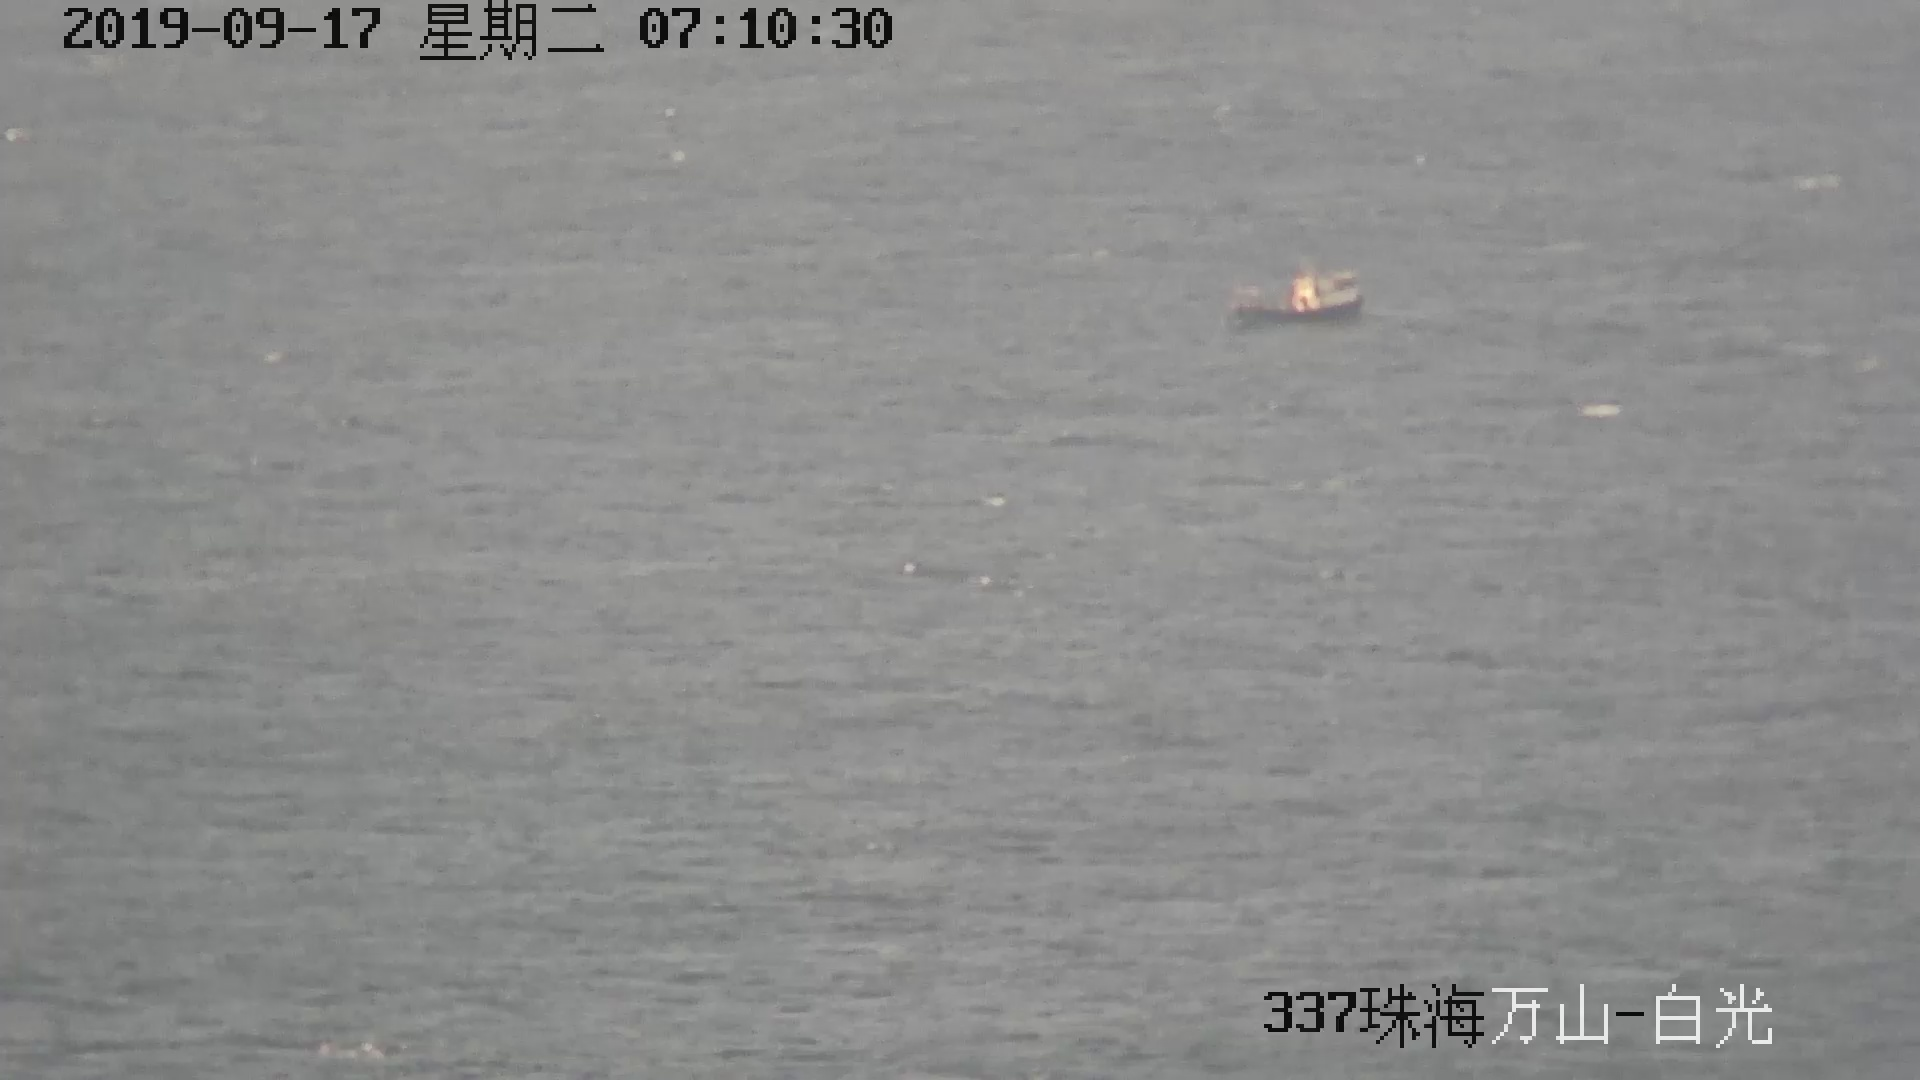ship: (1222, 261, 1367, 326)
